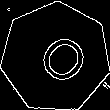O_SW: (23, 23, 88, 91)
